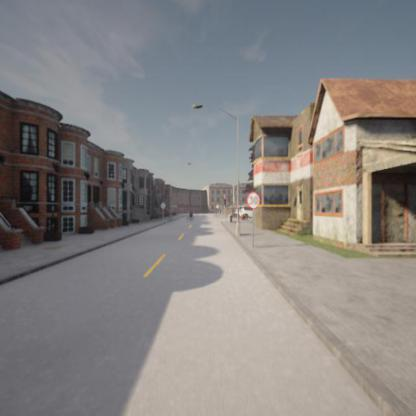traffic_sign_30: (247, 192, 261, 208)
